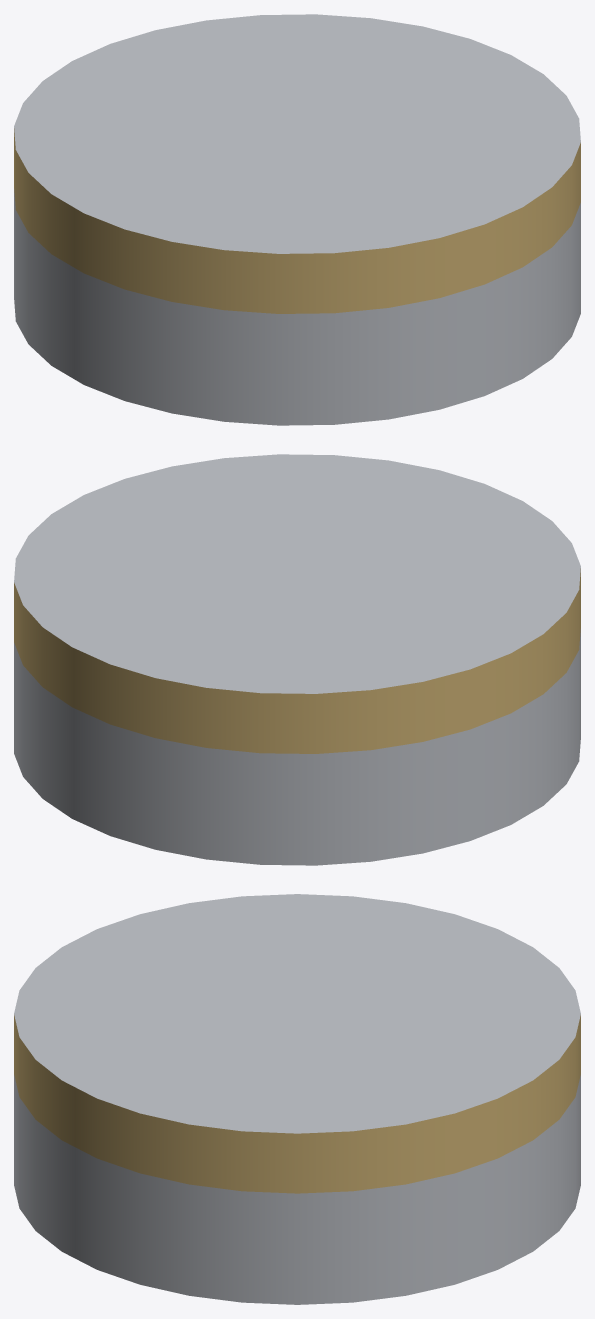
3 views of the same model, one above another, from view 1: azimuth 30°, elevation 25°; view 2: azimuth 150°, elevation 25°; view 3: azimuth 270°, elevation 25° (orthographic).
Visible parts, largest first — view 1: ratchet_0-40; view 2: ratchet_0-40; view 3: ratchet_0-40.
Boxes of the visible parts, left/top/right/bottom form: ratchet_0-40: left=14, top=14, right=580, bottom=425; ratchet_0-40: left=14, top=454, right=580, bottom=865; ratchet_0-40: left=14, top=894, right=580, bottom=1304.
Size of the model in its own units: 12 by 4 by 12.
